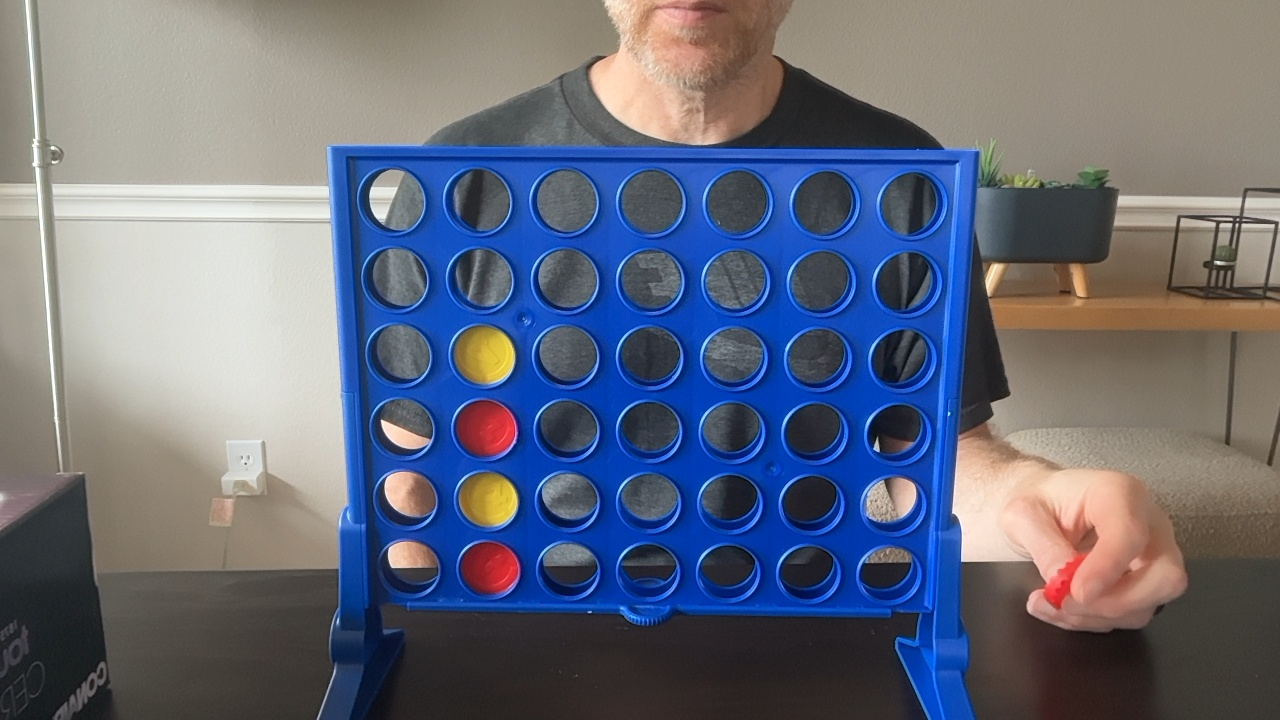red piece: (455, 400, 516, 458), (460, 541, 519, 595)
yellow piece: (453, 325, 515, 385), (458, 471, 518, 527)
